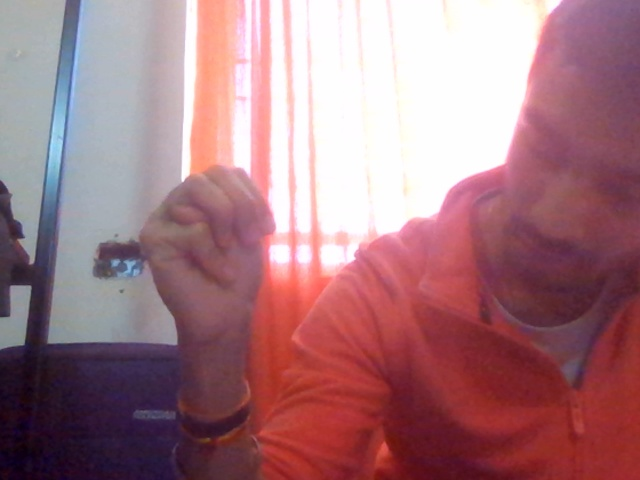M: (100, 131, 319, 367)
